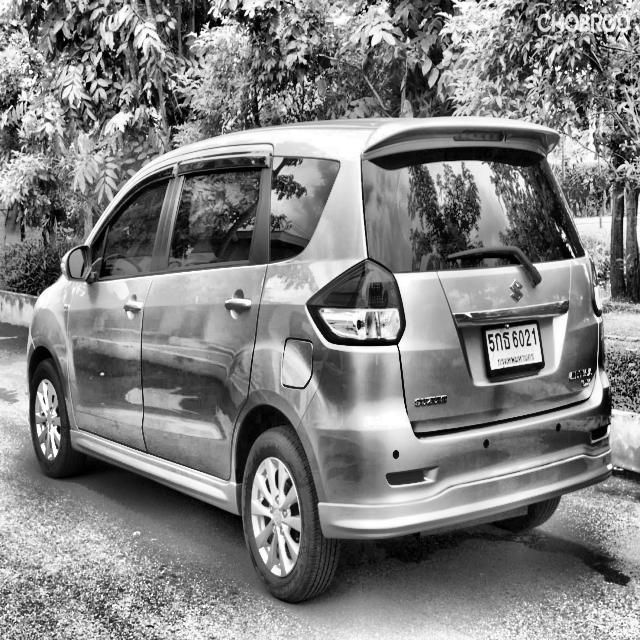license-plate: (474, 308, 554, 383)
